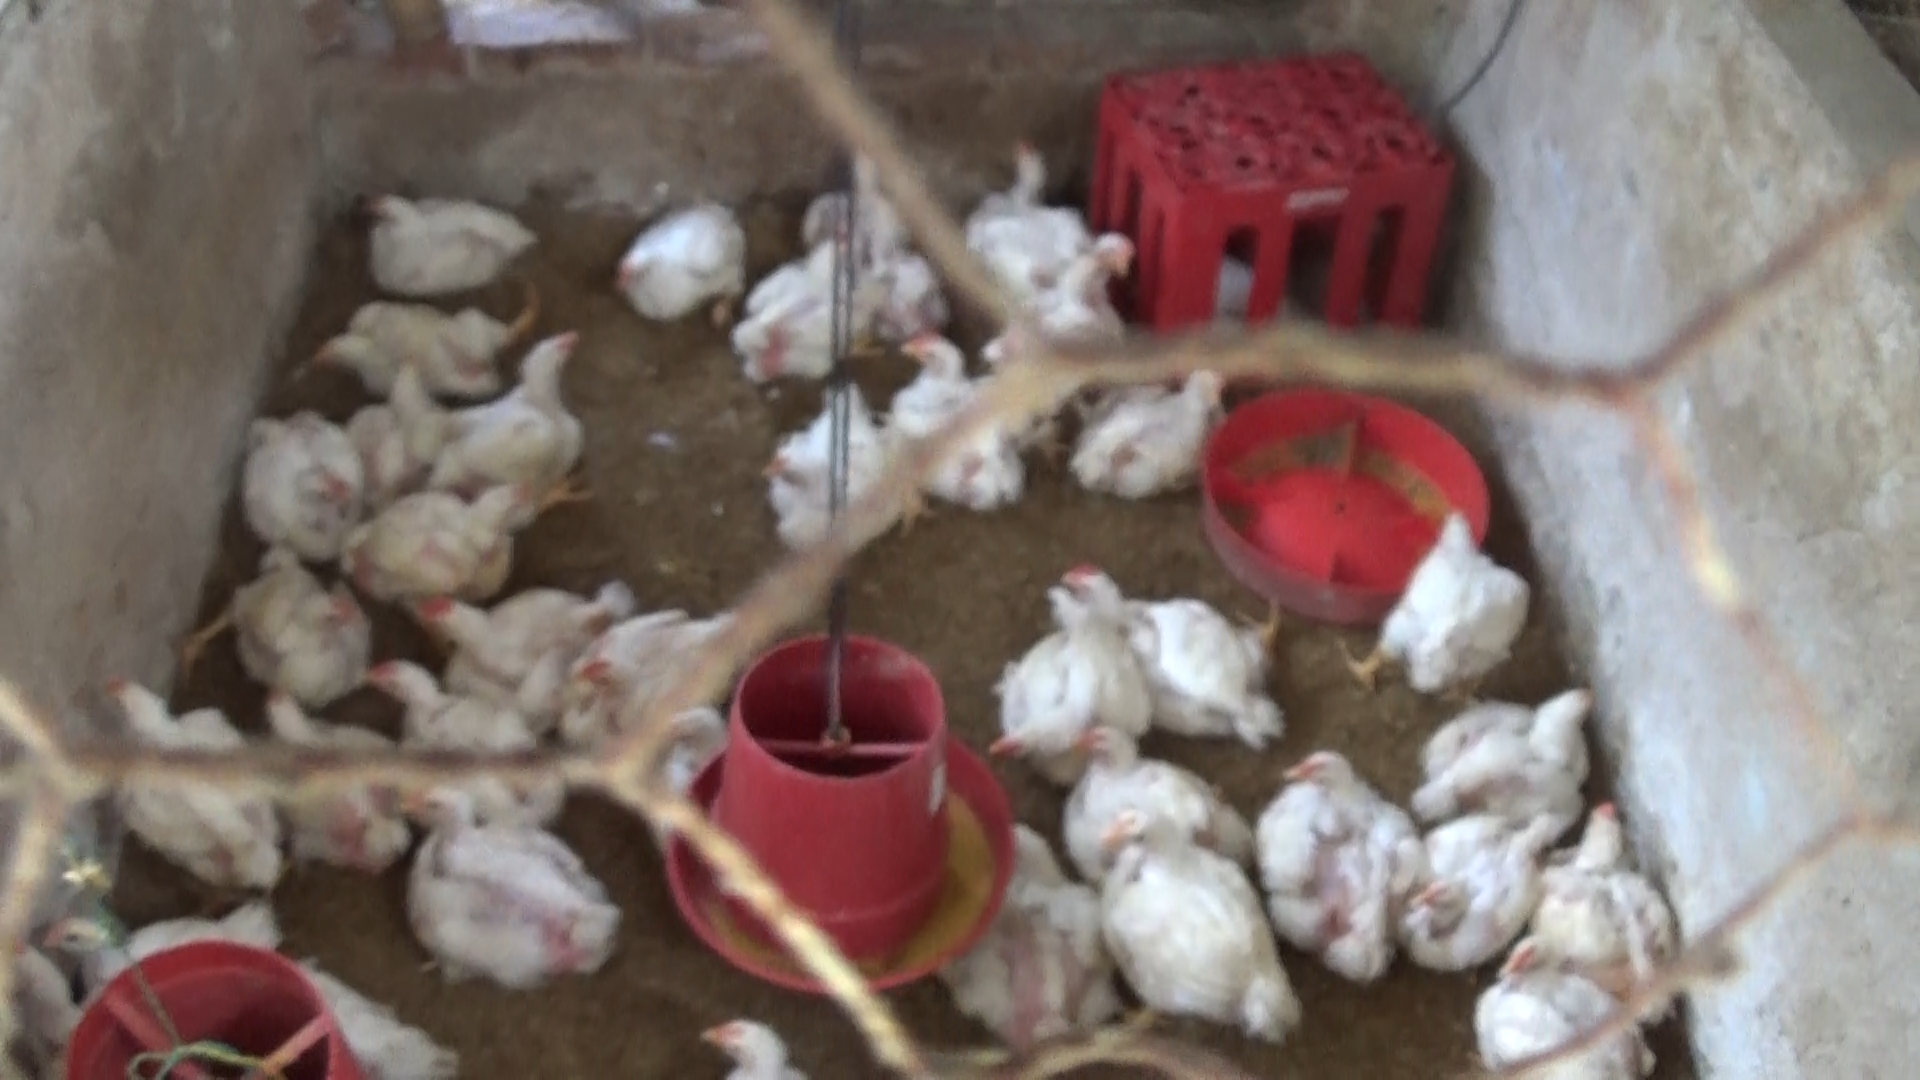Pollos: (1087, 807, 1302, 1044), (392, 775, 625, 993), (82, 669, 274, 909), (1062, 547, 1286, 744), (1253, 742, 1414, 968), (1042, 721, 1265, 882), (1348, 502, 1536, 692), (251, 688, 410, 880), (305, 280, 535, 406), (745, 378, 905, 558), (1547, 796, 1685, 1002), (1414, 674, 1606, 822), (877, 324, 1025, 513), (1468, 924, 1646, 1080), (413, 563, 607, 698), (429, 323, 585, 487), (208, 549, 372, 705), (709, 228, 880, 378), (990, 601, 1142, 766), (342, 477, 556, 588), (1402, 807, 1540, 975), (1067, 359, 1240, 491), (545, 597, 725, 723), (349, 658, 545, 771), (345, 179, 539, 293), (236, 404, 372, 556), (605, 189, 748, 332), (1001, 232, 1151, 359), (957, 123, 1098, 251), (340, 349, 458, 483), (675, 993, 816, 1073)
